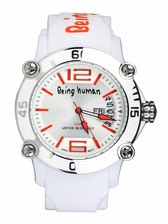watch: (9, 9, 158, 212)
